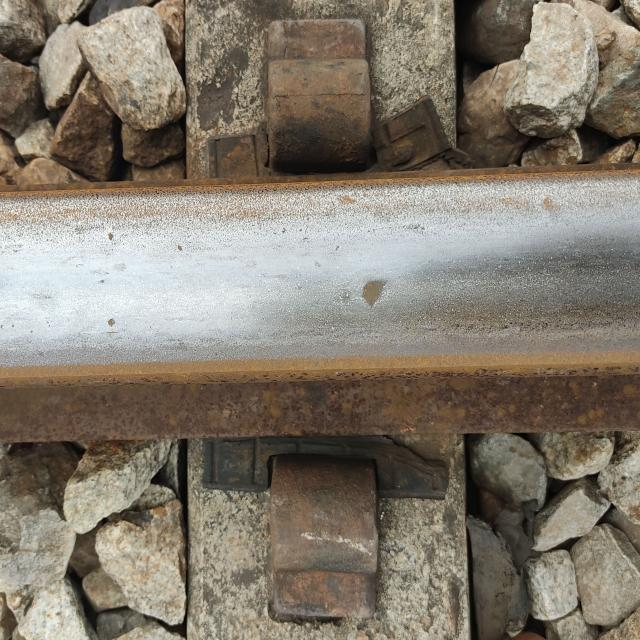head_checks_low: (353, 272, 393, 315)
